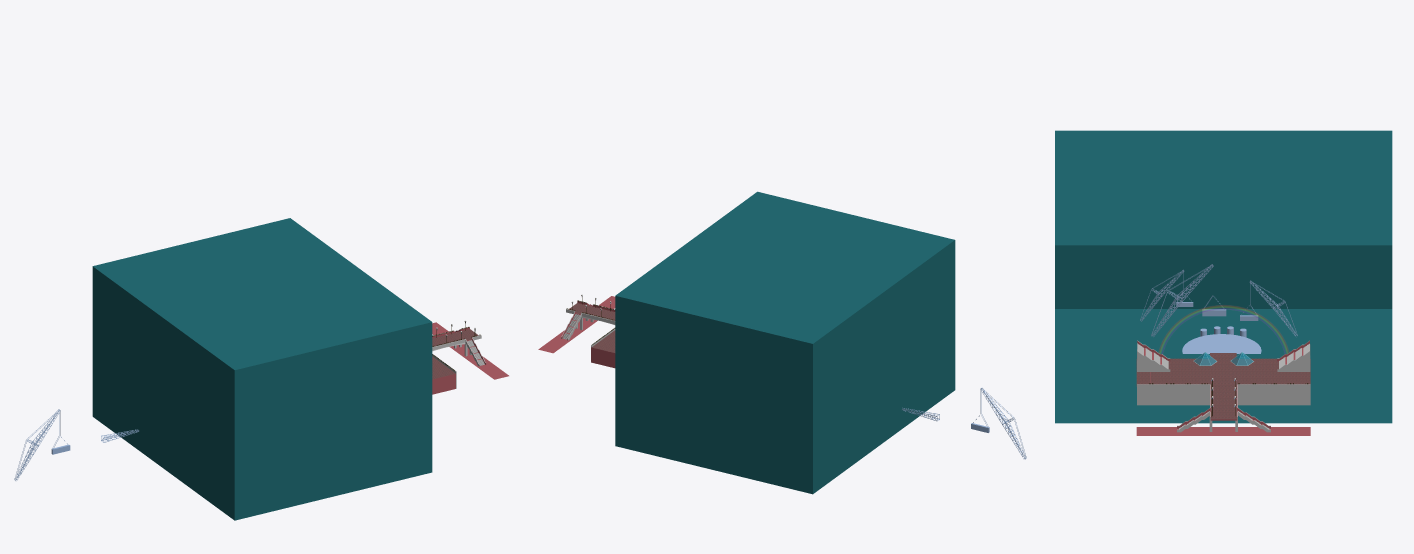
The model's file is TAMA_str_V.gltf.
The picture shows the model from 3 angles, left to right: view 1: azimuth 30°, elevation 25°; view 2: azimuth 150°, elevation 25°; view 3: azimuth 270°, elevation 25°; orthographic projection. The views are drawn at different scales.
Visible parts, largest first — view 1: Cube.015, Cube; view 2: Cube.015, Cube; view 3: Cube.015, Cube.151, Cube.152, Cube, Cylinder.001, Cube.188, rainbow, Cube.189, Cube.190.
Part boxes in pixels (x1=…): Cube.015: x1=92, y1=218, x2=432, y2=520; Cube: x1=432, y1=322, x2=508, y2=379; Cube.015: x1=615, y1=191, x2=955, y2=494; Cube: x1=538, y1=296, x2=615, y2=353; Cube.015: x1=1055, y1=130, x2=1392, y2=423; Cube.151: x1=1238, y1=384, x2=1310, y2=405; Cube.152: x1=1137, y1=384, x2=1209, y2=405; Cube: x1=1136, y1=427, x2=1310, y2=435; Cylinder.001: x1=1182, y1=334, x2=1261, y2=353; Cube.188: x1=1151, y1=264, x2=1226, y2=336; rainbow: x1=1158, y1=305, x2=1288, y2=353; Cube.189: x1=1240, y1=280, x2=1297, y2=337; Cube.190: x1=1140, y1=269, x2=1193, y2=321.
Size of the model in its own units: 187 by 173 by 103.
9 materials, 2 textured.
